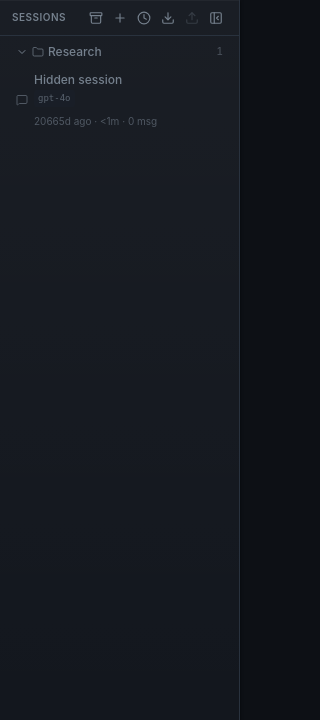
it: Session groups — collapse/expand › collapses a group on header click
Expected: the text "Hidden session" is shown, [34,72,122,87]
Note: Click header to collapse
Click the text "Research" at (75, 52), box [8,40,231,64]
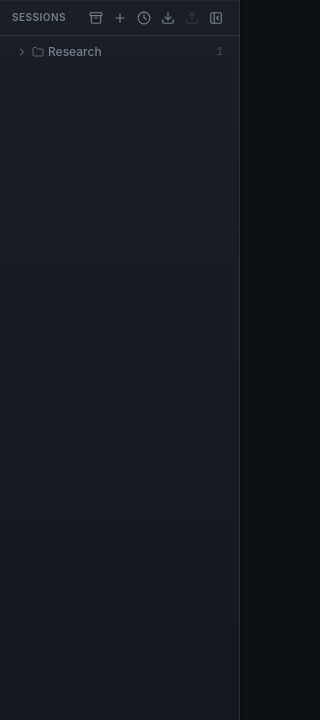
Expected: the button "Hidden session" is gone
